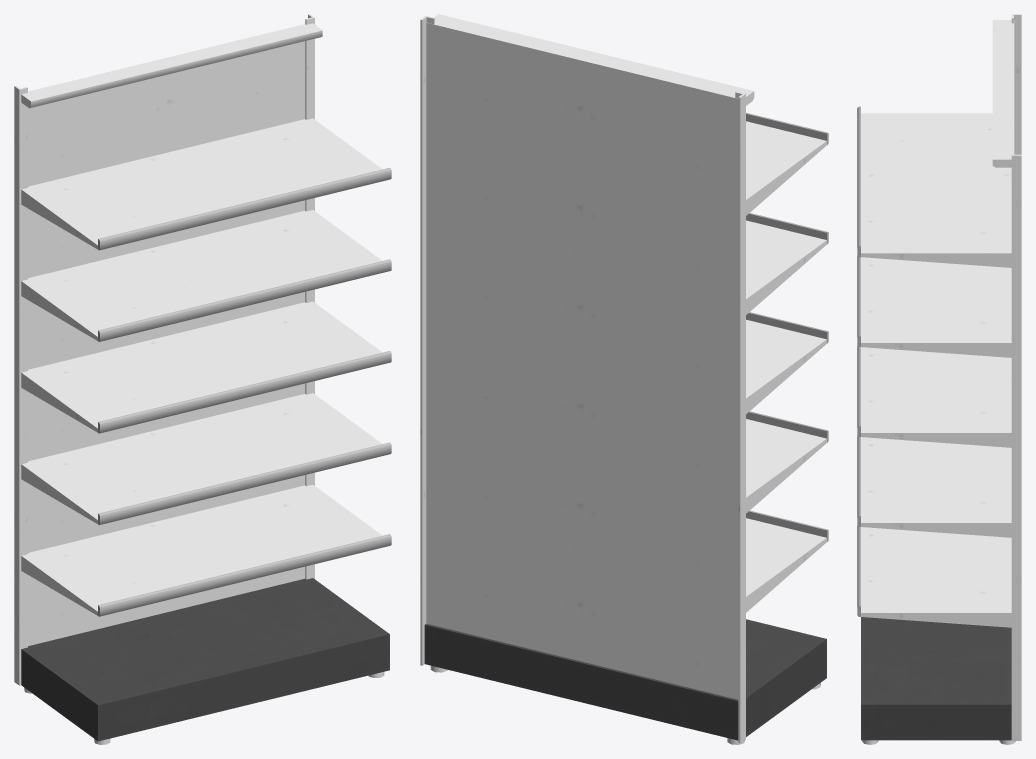
File: SM_Shelving6.fbx
3 views of the same model, side by side, from view 1: azimuth 30°, elevation 25°; view 2: azimuth 150°, elevation 25°; view 3: azimuth 270°, elevation 25° (orthographic). The views are drawn at different scales.
Parts seen in each view (by area): view 1: SM_Shelving6_LOD0; view 2: SM_Shelving6_LOD0; view 3: SM_Shelving6_LOD0.
Boxes of the visible parts, bbox=[...] form: SM_Shelving6_LOD0: bbox=[14, 14, 391, 744]; SM_Shelving6_LOD0: bbox=[420, 14, 828, 744]; SM_Shelving6_LOD0: bbox=[857, 14, 1021, 744].
Bounding box in the file's own units: 101 × 49.57 × 197.
